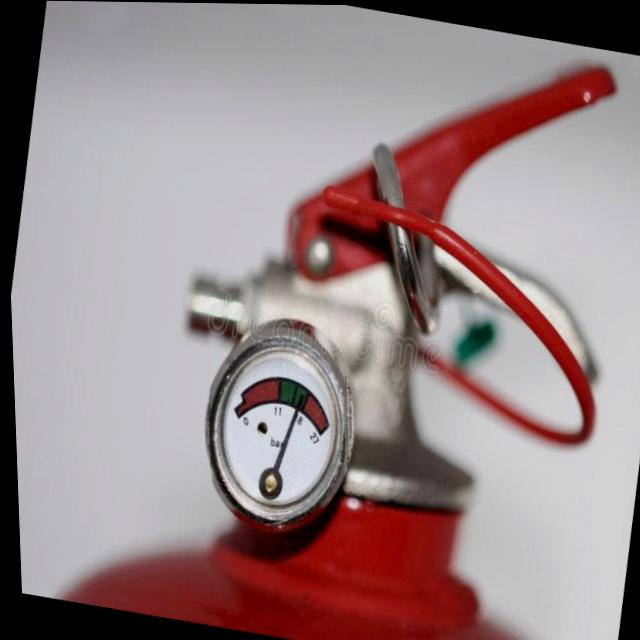FireExtinguisher: (17, 0, 640, 640)
